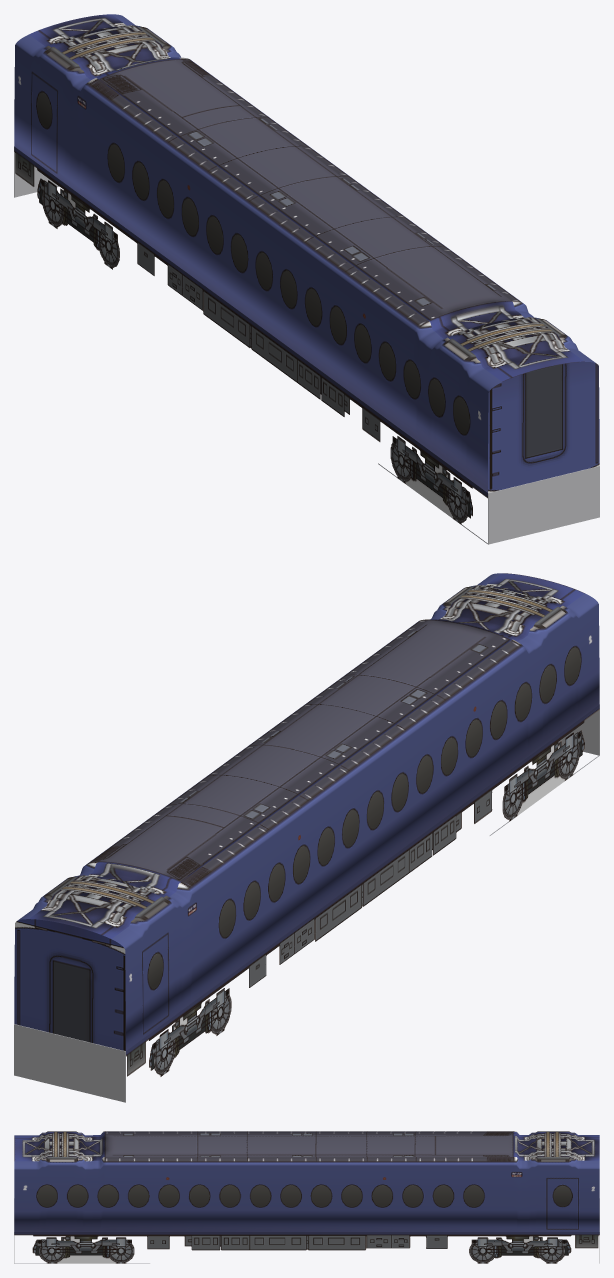
The model's file is car3.glb.
The picture shows the model from 3 angles, top to bottom: view 1: azimuth 30°, elevation 25°; view 2: azimuth 150°, elevation 25°; view 3: azimuth 270°, elevation 25°; orthographic projection. The views are drawn at different scales.
Parts seen in each view (by area): view 1: nankai-50000-car3; view 2: nankai-50000-car3; view 3: nankai-50000-car3.
Boxes of the visible parts, box(x1,y1,x2,y2) form: nankai-50000-car3: box(14, 14, 599, 544); nankai-50000-car3: box(14, 573, 599, 1102); nankai-50000-car3: box(14, 1131, 599, 1263).
Size of the model in its own units: 2.85 by 4.14 by 20.95.
Materials: 8 (5 with a texture image).
